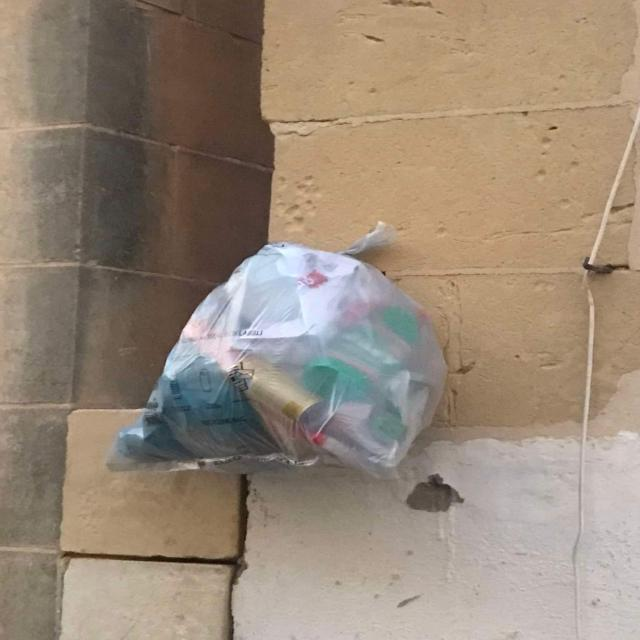Recycled Waste -Grey or Green Bag-: (106, 222, 450, 481)
